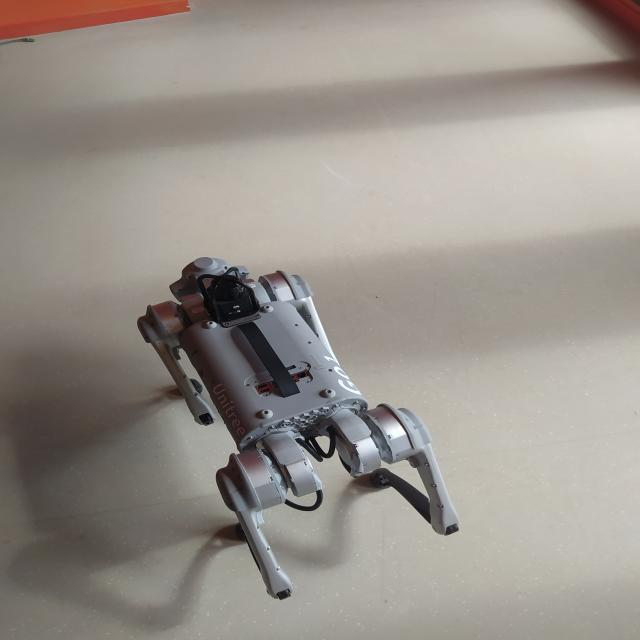unitree-go1-robot: (100, 250, 461, 614)
